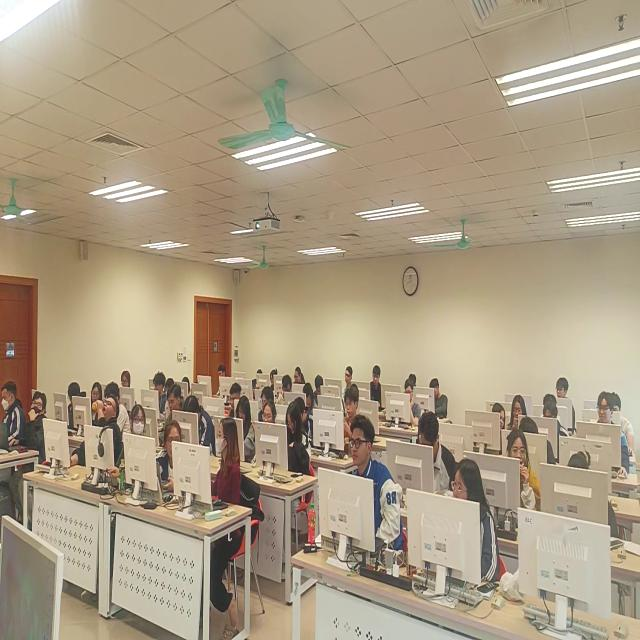raise_hand: (82, 386, 127, 484)
raise_head: (345, 413, 403, 565), (447, 456, 498, 598), (23, 385, 54, 478), (554, 378, 579, 438), (344, 367, 357, 394)
using_computer: (564, 448, 618, 542), (415, 411, 458, 509), (594, 391, 631, 480), (520, 415, 559, 479), (182, 391, 217, 462), (286, 400, 313, 490), (1, 382, 30, 459), (610, 393, 637, 459), (235, 393, 257, 465), (258, 395, 279, 470), (543, 402, 571, 456), (64, 375, 89, 435), (164, 376, 185, 438), (402, 379, 422, 435), (150, 369, 170, 423), (430, 375, 450, 429), (209, 361, 230, 404), (368, 363, 386, 412), (227, 382, 246, 425), (303, 378, 319, 421), (251, 359, 266, 401), (313, 373, 327, 413), (122, 369, 134, 409), (180, 375, 195, 405), (294, 365, 305, 398), (409, 368, 422, 395), (268, 363, 278, 395), (544, 395, 558, 411)
using_phone: (336, 383, 364, 461), (508, 386, 531, 438)
